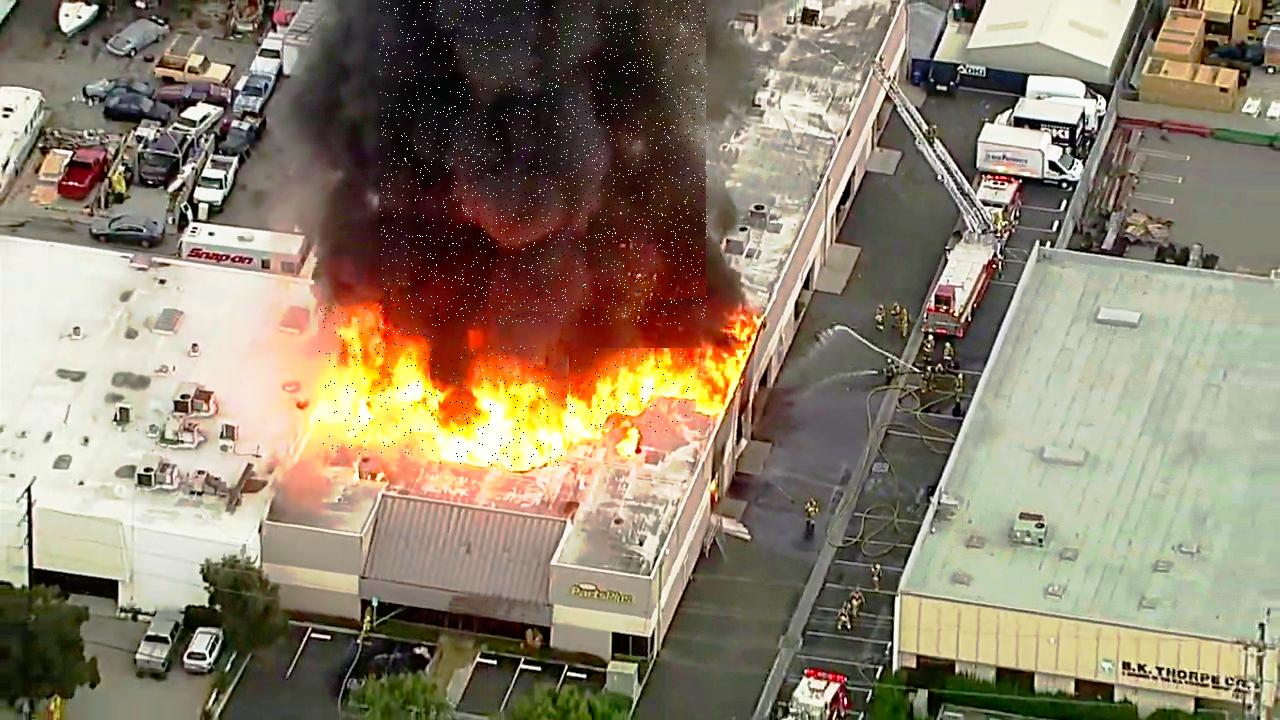fire: (319, 307, 442, 455), (450, 345, 567, 467), (570, 349, 704, 436)
smoke: (380, 0, 709, 325)
